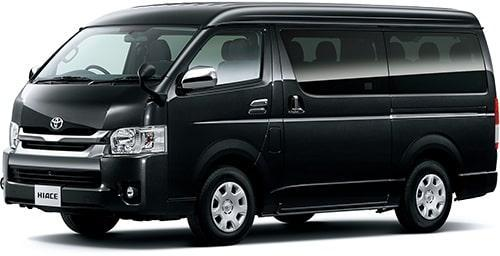Van: (7, 2, 500, 232)
